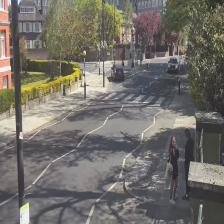person: (182, 128, 194, 200)
